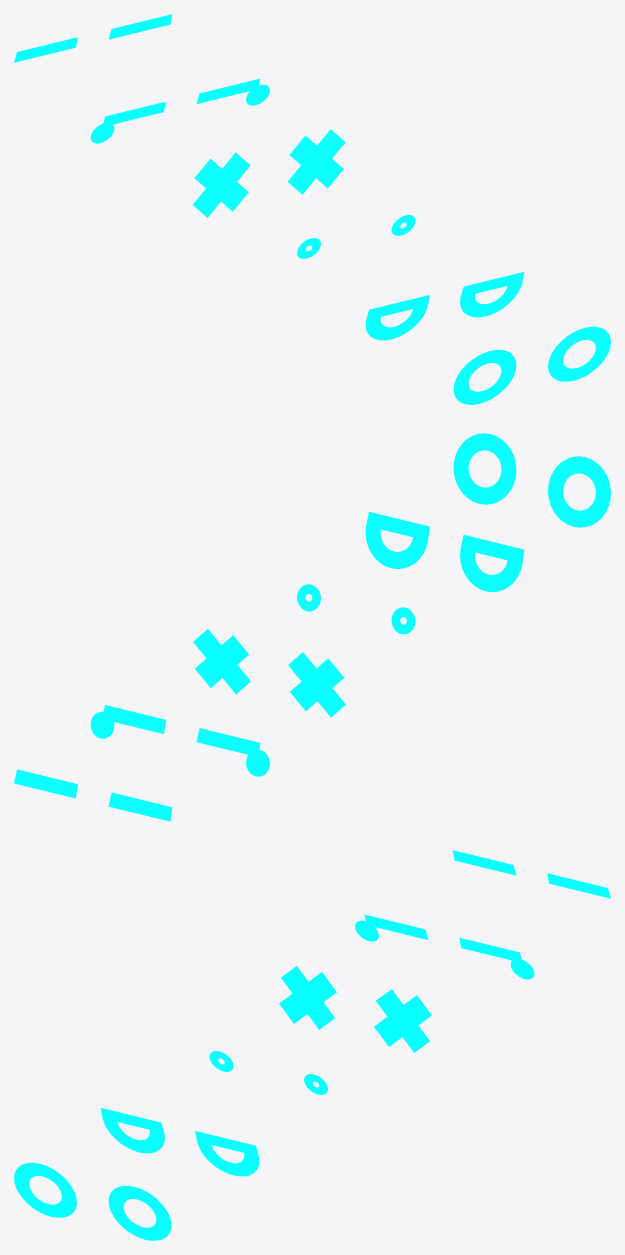
The model's file is OjosRobotcito.fbx.
3 views of the same model, one above another, from view 1: azimuth 30°, elevation 25°; view 2: azimuth 150°, elevation 25°; view 3: azimuth 330°, elevation 25° (orthographic).
Parts seen in each view (by area): view 1: OJOS.004, OJOS.001, OJOS.002, OJOS.005, OJOS.006, OJOS.003; view 2: OJOS.001, OJOS.002, OJOS.004, OJOS.005, OJOS.006, OJOS.003; view 3: OJOS.004, OJOS.001, OJOS.002, OJOS.005, OJOS.006, OJOS.003.
Part boxes in pixels (x1=…): OJOS.004: x1=193, y1=129, x2=345, y2=217; OJOS.001: x1=453, y1=326, x2=610, y2=404; OJOS.002: x1=365, y1=272, x2=524, y2=340; OJOS.005: x1=90, y1=78, x2=269, y2=143; OJOS.006: x1=14, y1=14, x2=172, y2=62; OJOS.003: x1=297, y1=215, x2=415, y2=258; OJOS.001: x1=453, y1=433, x2=610, y2=527; OJOS.002: x1=365, y1=511, x2=524, y2=591; OJOS.004: x1=193, y1=629, x2=345, y2=717; OJOS.005: x1=90, y1=705, x2=269, y2=776; OJOS.006: x1=14, y1=769, x2=172, y2=821; OJOS.003: x1=297, y1=584, x2=415, y2=634; OJOS.004: x1=279, y1=966, x2=431, y2=1052; OJOS.001: x1=14, y1=1162, x2=171, y2=1240; OJOS.002: x1=100, y1=1108, x2=259, y2=1176; OJOS.005: x1=355, y1=914, x2=534, y2=979; OJOS.006: x1=452, y1=850, x2=610, y2=898; OJOS.003: x1=209, y1=1051, x2=327, y2=1094.
Bounding box in the file's own units: 117 × 38.53 × 506.
